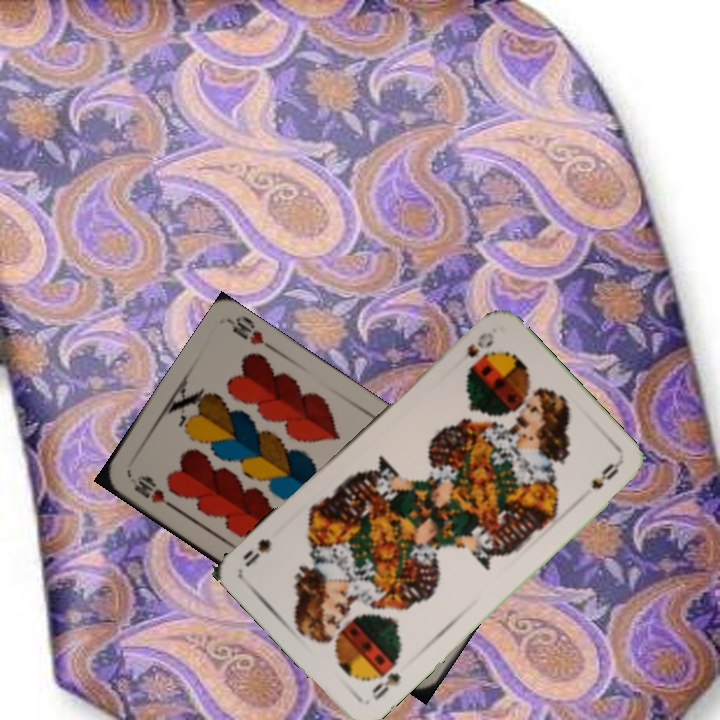H10: (130, 471, 178, 512)
SO: (462, 327, 497, 374), (367, 668, 403, 703)
